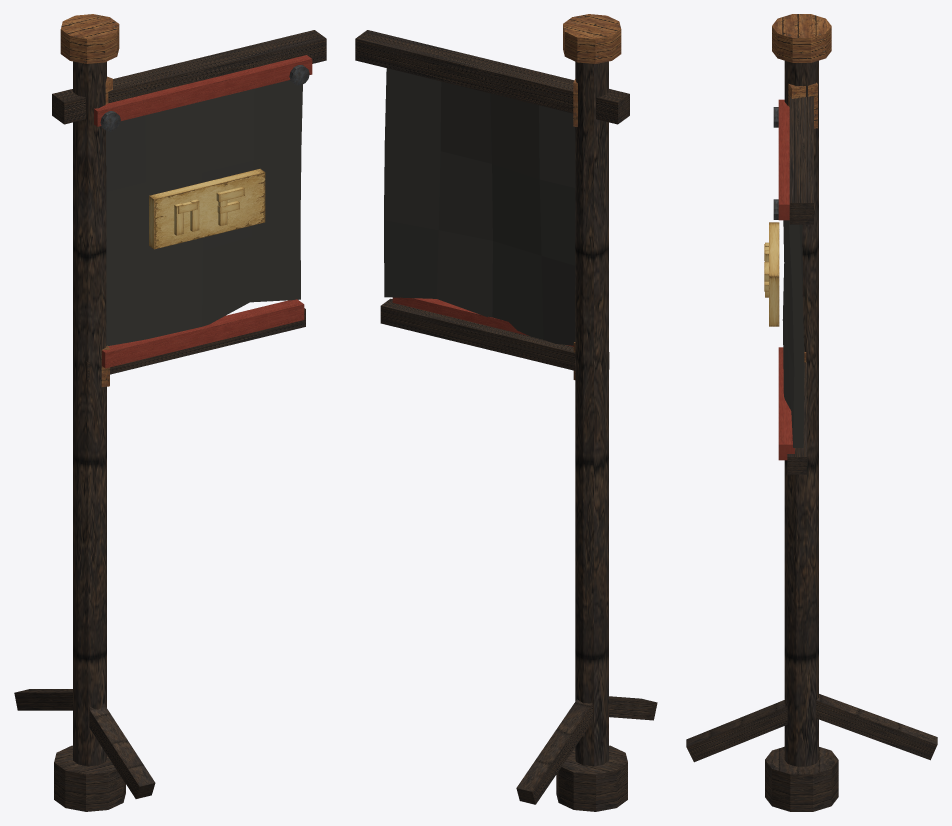
Rendered from banner-post.glb.
The picture shows the model from 3 angles, left to right: view 1: azimuth 30°, elevation 25°; view 2: azimuth 150°, elevation 25°; view 3: azimuth 270°, elevation 25°; orthographic projection.
Parts seen in each view (by area): view 1: banner_post_landmark; view 2: banner_post_landmark; view 3: banner_post_landmark.
Part boxes in pixels (x1=…): banner_post_landmark: x1=14, y1=14, x2=326, y2=811; banner_post_landmark: x1=355, y1=14, x2=657, y2=811; banner_post_landmark: x1=686, y1=14, x2=937, y2=811.
Size of the model in its own units: 1.32 by 3.7 by 1.09.
7 materials, 7 textured.
